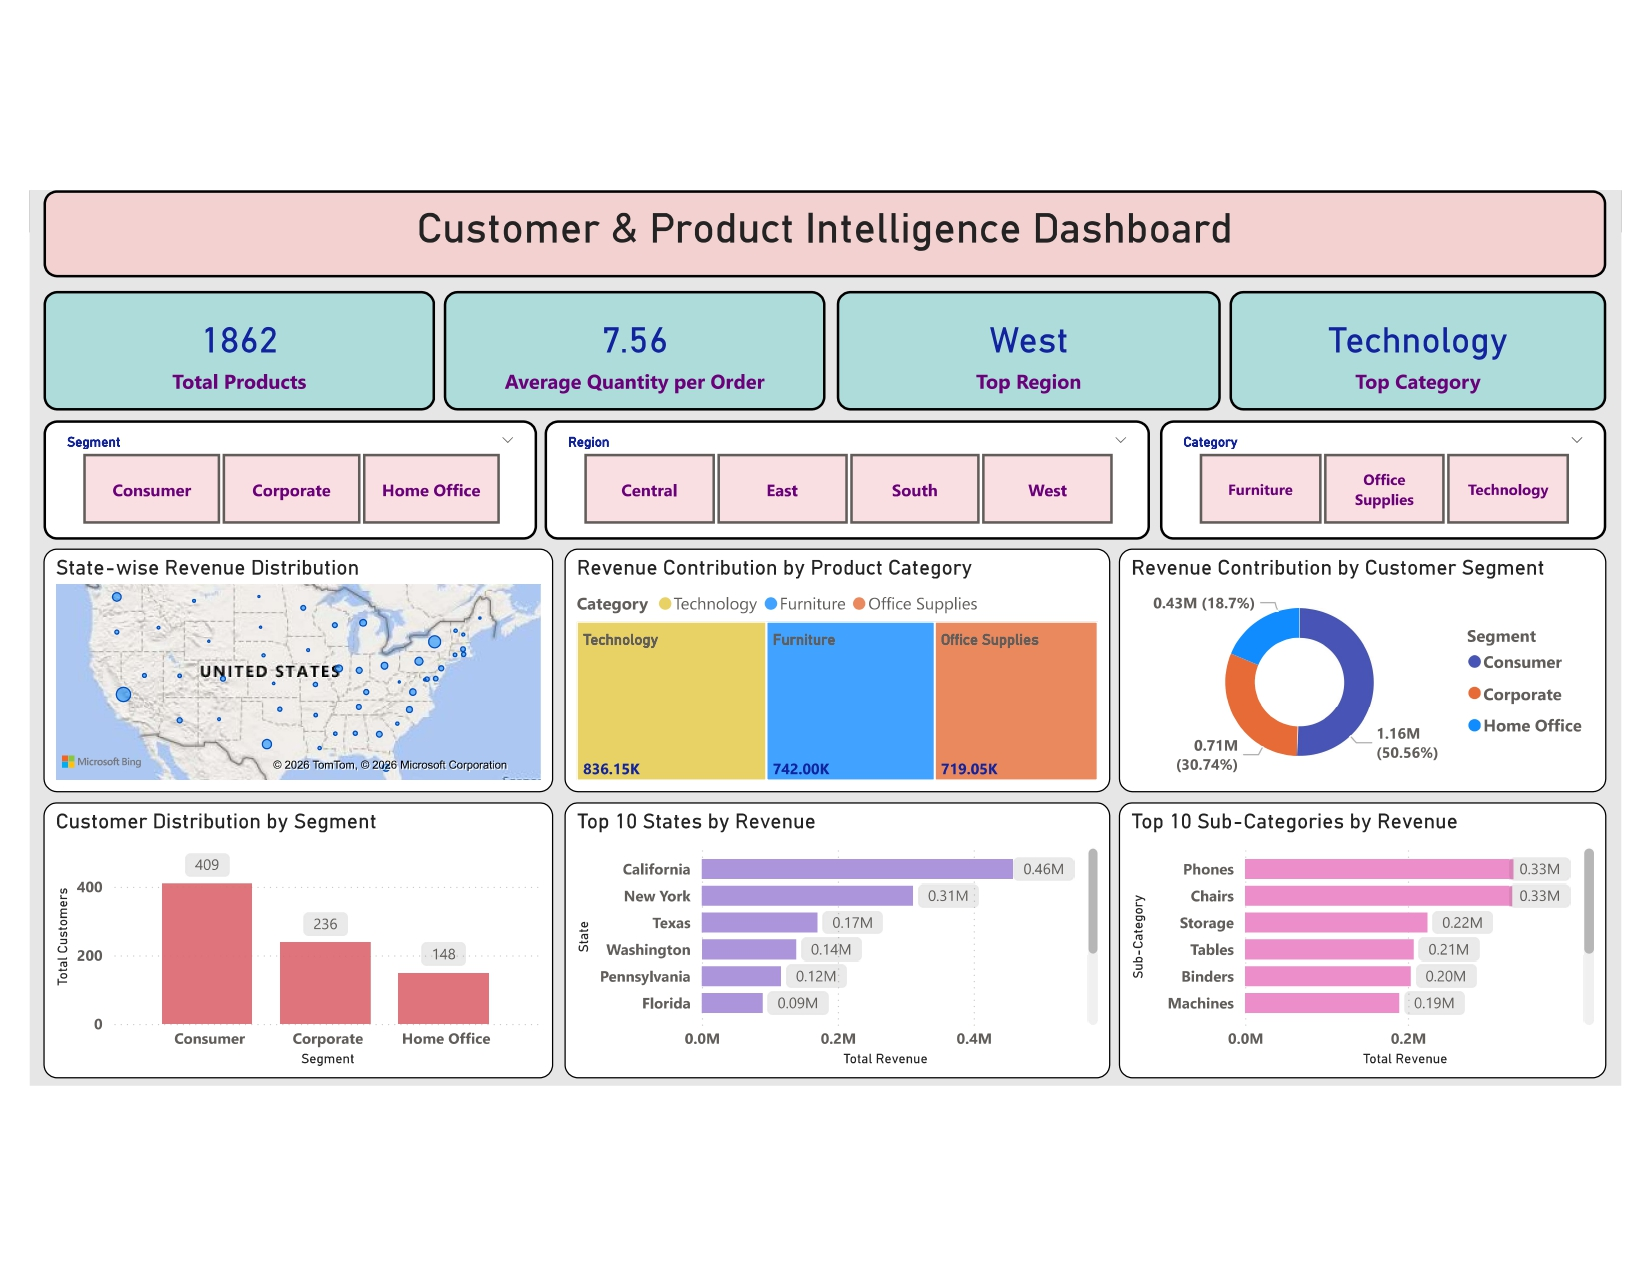

This screenshot's page, from the dashboard's own definition file:
{"tool":"powerbi","page":{"name":"Customer & Product Intelligence","canvas":[1280,720],"ordinal":1},"visuals":[{"type":"textbox","box":[10.9,0,1257,69.8],"z":0},{"type":"map","title":"State-wise Revenue Distribution","fields":{"Category":["Sample - Superstore.State"],"Size":["Sample - Superstore.Total Revenue"]},"box":[10.9,287.5,409.9,196.8],"z":1000},{"type":"card","fields":{"Values":["Sample - Superstore.Total Products"]},"box":[10.9,80.7,314.7,96.1],"z":2000},{"type":"card","fields":{"Values":["Sample - Superstore.Average Quantity per Order"]},"box":[332.9,80.7,307.5,96.1],"z":3000},{"type":"donutChart","title":"Revenue Contribution by Customer Segment","fields":{"Category":["Sample - Superstore.Segment"],"Y":["Sample - Superstore.Total Revenue"]},"box":[876.1,287.5,391.8,196.8],"z":4000},{"type":"clusteredColumnChart","title":"Customer Distribution by Segment","fields":{"Category":["Sample - Superstore.Segment"],"Y":["Sample - Superstore.Total Customers"]},"box":[10.9,491.6,409.9,222.2],"z":5000},{"type":"treemap","title":"Revenue Contribution by Product Category","fields":{"Values":["Sample - Superstore.Total Revenue"],"Group":["Sample - Superstore.Category"]},"box":[429.9,287.5,439,196.8],"z":6000},{"type":"clusteredBarChart","title":"Top 10 Sub-Categories by Revenue","fields":{"Category":["Sample - Superstore.Sub-Category"],"Y":["Sample - Superstore.Total Revenue"]},"box":[876.1,491.6,391.8,222.2],"z":7000},{"type":"clusteredBarChart","title":"Top 10 States by Revenue","fields":{"Category":["Sample - Superstore.State"],"Y":["Sample - Superstore.Total Revenue"]},"box":[429.9,491.6,439,222.2],"z":8000},{"type":"slicer","fields":{"Values":["Sample - Superstore.Segment"]},"box":[10.9,185,397.2,96.1],"z":9000},{"type":"slicer","fields":{"Values":["Sample - Superstore.Category"]},"box":[908.8,185,359.2,96.1],"z":10000},{"type":"slicer","fields":{"Values":["Sample - Superstore.Region"]},"box":[414.5,185,486.1,96.1],"z":11000},{"type":"card","fields":{"Values":["Sample - Superstore.Top Region"]},"box":[649.4,80.7,308.4,96.1],"z":12000},{"type":"card","fields":{"Values":["Sample - Superstore.Top Category"]},"box":[965,80.7,302.9,96.1],"z":13000}]}

Visuals, with their boxes in screenshot pixels (x1, y1, x2, y2):
textbox: <region>52, 189, 1593, 275</region>
"State-wise Revenue Distribution" map: <region>52, 542, 555, 783</region>
card - Sample - Superstore.Total Products: <region>52, 288, 438, 406</region>
card - Sample - Superstore.Average Quantity per Order: <region>447, 288, 824, 406</region>
"Revenue Contribution by Customer Segment" donutChart: <region>1113, 542, 1593, 783</region>
"Customer Distribution by Segment" clusteredColumnChart: <region>52, 792, 555, 1064</region>
"Revenue Contribution by Product Category" treemap: <region>566, 542, 1104, 783</region>
"Top 10 Sub-Categories by Revenue" clusteredBarChart: <region>1113, 792, 1593, 1064</region>
"Top 10 States by Revenue" clusteredBarChart: <region>566, 792, 1104, 1064</region>
slicer - Sample - Superstore.Segment: <region>52, 416, 539, 534</region>
slicer - Sample - Superstore.Category: <region>1153, 416, 1593, 534</region>
slicer - Sample - Superstore.Region: <region>547, 416, 1143, 534</region>
card - Sample - Superstore.Top Region: <region>835, 288, 1213, 406</region>
card - Sample - Superstore.Top Category: <region>1222, 288, 1593, 406</region>
